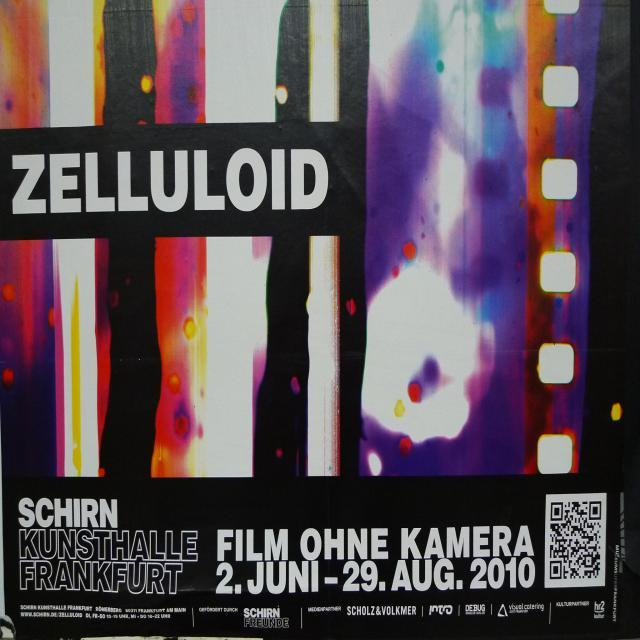qrcode: (551, 502, 602, 580)
